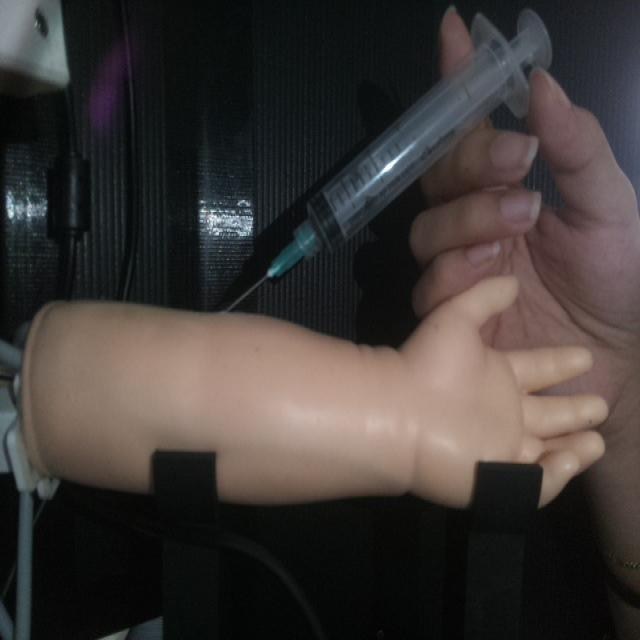Above 30 degrees: (219, 5, 553, 312)
